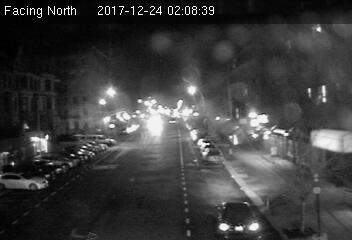car: (215, 201, 258, 235), (202, 147, 225, 163)
